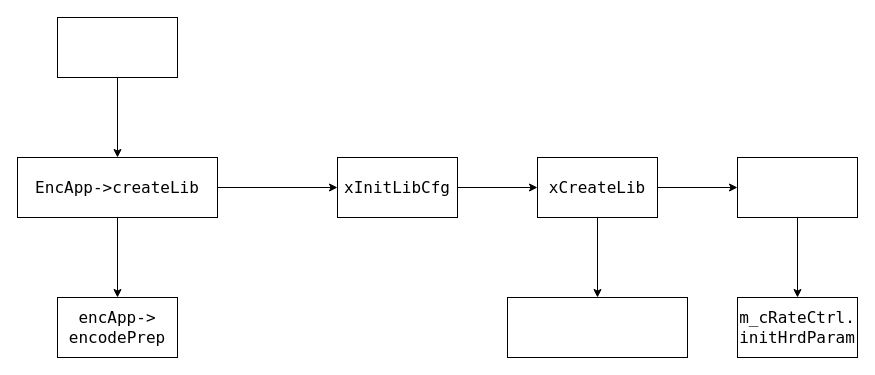
Some shapes in this 875 by 375 pixel diagram are drawn without their labels. The shapes that lost their labels are listed below. From the top down, each one's centre as x and y in pixels, then its label:
At point 117,47: "encmain".
At point 797,187: "xInitLib".
At point 597,327: "m_cRateCtrl.init".
